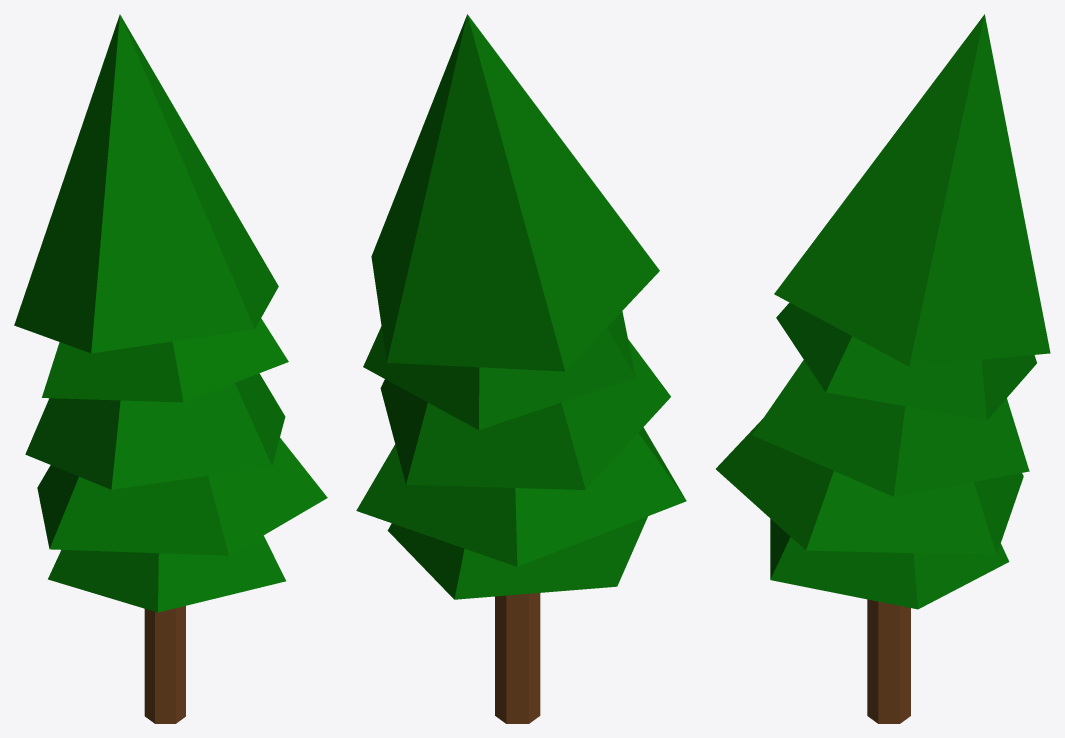
File: Arvore 2.fbx
The picture shows the model from 3 angles, left to right: view 1: azimuth 30°, elevation 25°; view 2: azimuth 150°, elevation 25°; view 3: azimuth 270°, elevation 25°; orthographic projection. The views are drawn at different scales.
Parts seen in each view (by area): view 1: Cylinder.005, Cylinder.003, Cylinder.002, Cylinder.004, Cylinder.001, Cylinder; view 2: Cylinder.005, Cylinder.003, Cylinder.002, Cylinder.004, Cylinder.001, Cylinder; view 3: Cylinder.005, Cylinder.002, Cylinder.003, Cylinder.004, Cylinder.001, Cylinder.
Boxes of the visible parts, x1=… form: Cylinder.005: x1=14, y1=14, x2=278, y2=353; Cylinder.003: x1=25, y1=373, x2=285, y2=489; Cylinder.002: x1=37, y1=438, x2=327, y2=555; Cylinder.004: x1=42, y1=318, x2=288, y2=402; Cylinder.001: x1=48, y1=535, x2=285, y2=612; Cylinder: x1=144, y1=606, x2=185, y2=723; Cylinder.005: x1=371, y1=14, x2=659, y2=371; Cylinder.003: x1=380, y1=339, x2=670, y2=489; Cylinder.002: x1=356, y1=427, x2=686, y2=566; Cylinder.004: x1=363, y1=311, x2=635, y2=429; Cylinder.001: x1=387, y1=516, x2=647, y2=599; Cylinder: x1=495, y1=593, x2=540, y2=723; Cylinder.005: x1=774, y1=14, x2=1050, y2=366; Cylinder.002: x1=716, y1=419, x2=1023, y2=554; Cylinder.003: x1=752, y1=360, x2=1029, y2=496; Cylinder.004: x1=776, y1=302, x2=1036, y2=420; Cylinder.001: x1=770, y1=519, x2=1009, y2=609; Cylinder: x1=867, y1=599, x2=910, y2=723.
Bounding box in the file's own units: 192 × 475 × 206.
